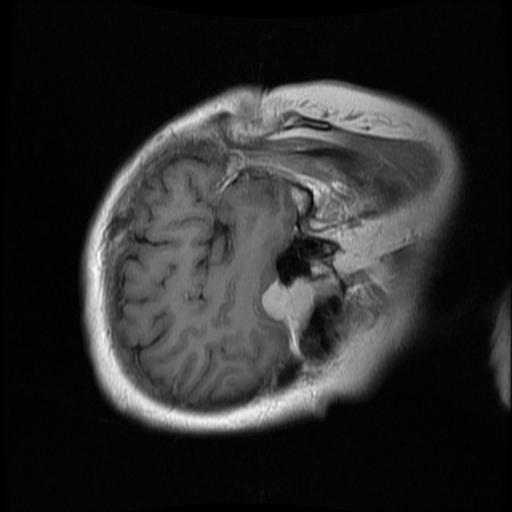meningioma: (261, 276, 316, 357)
